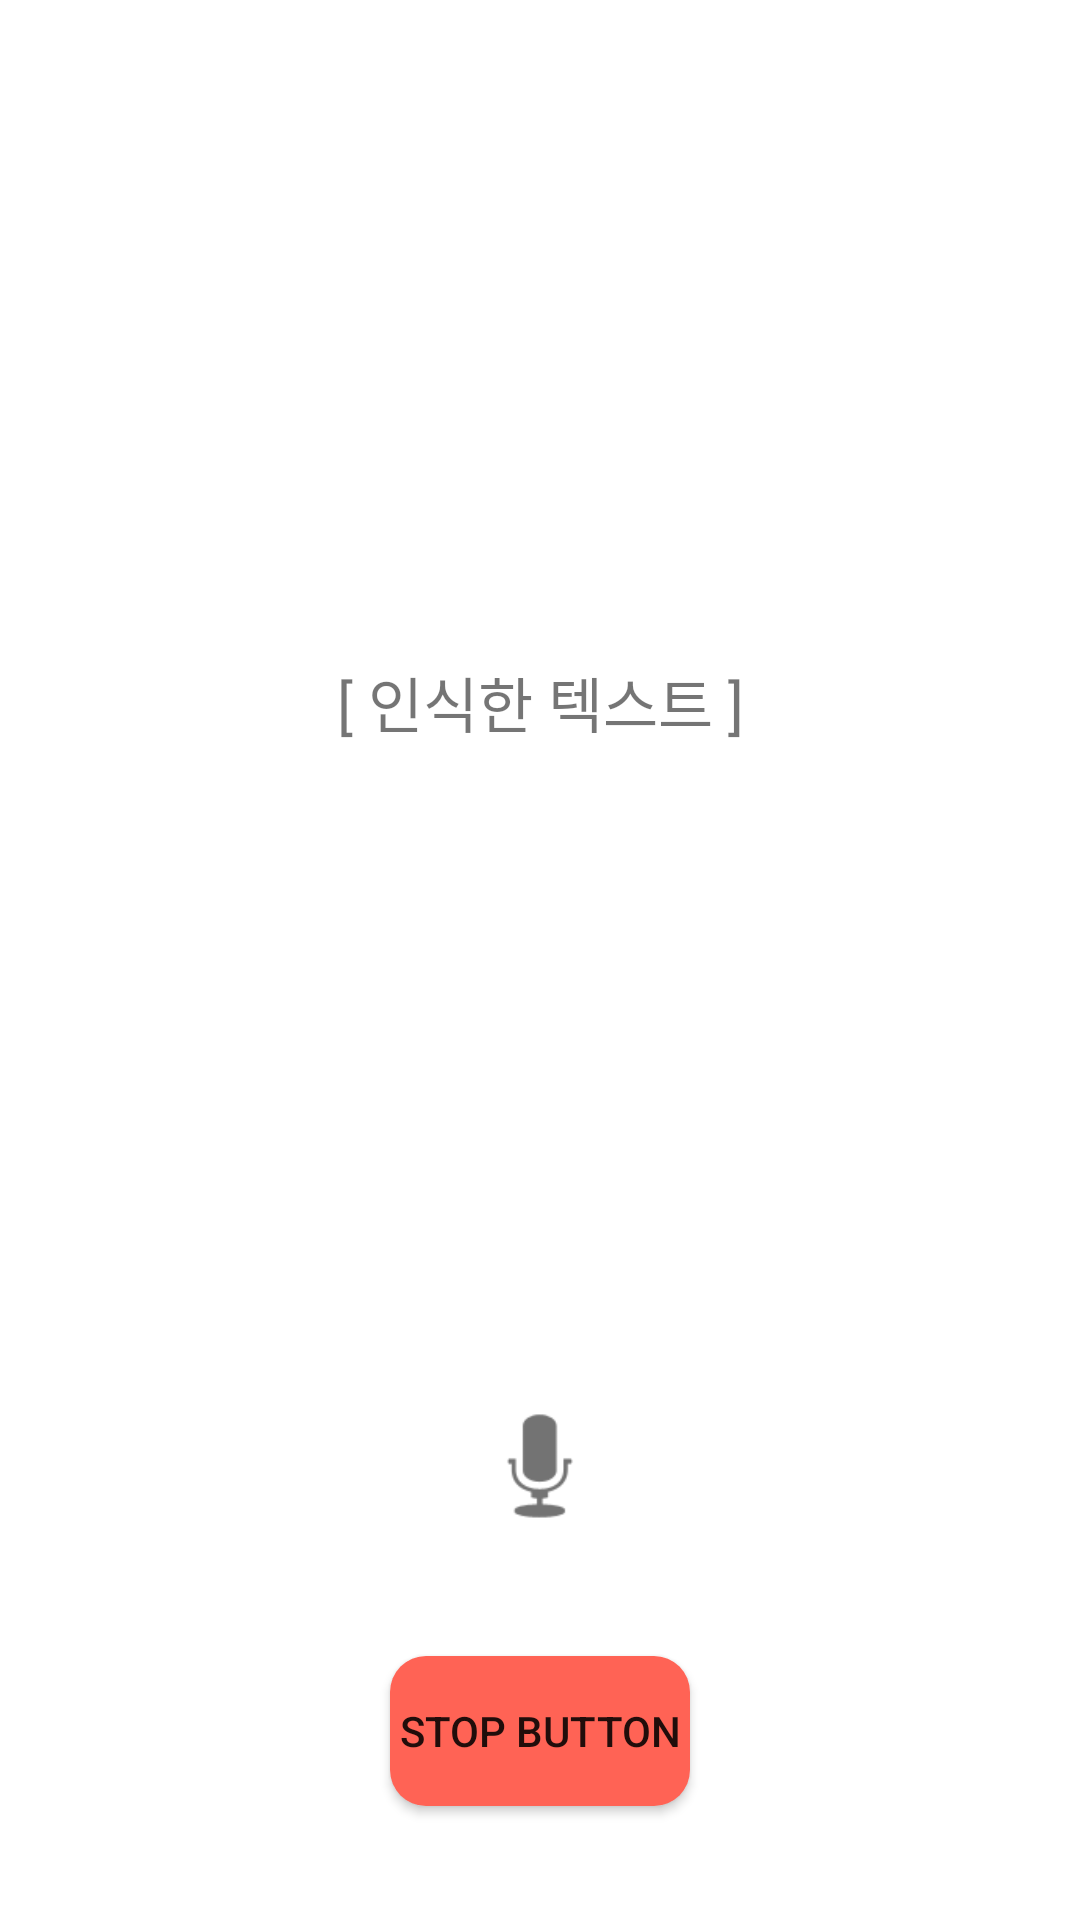

Screen size 1080px x 1920px. Icon name, then its center in pixels as (x,y):
speak now: (540,1466)
